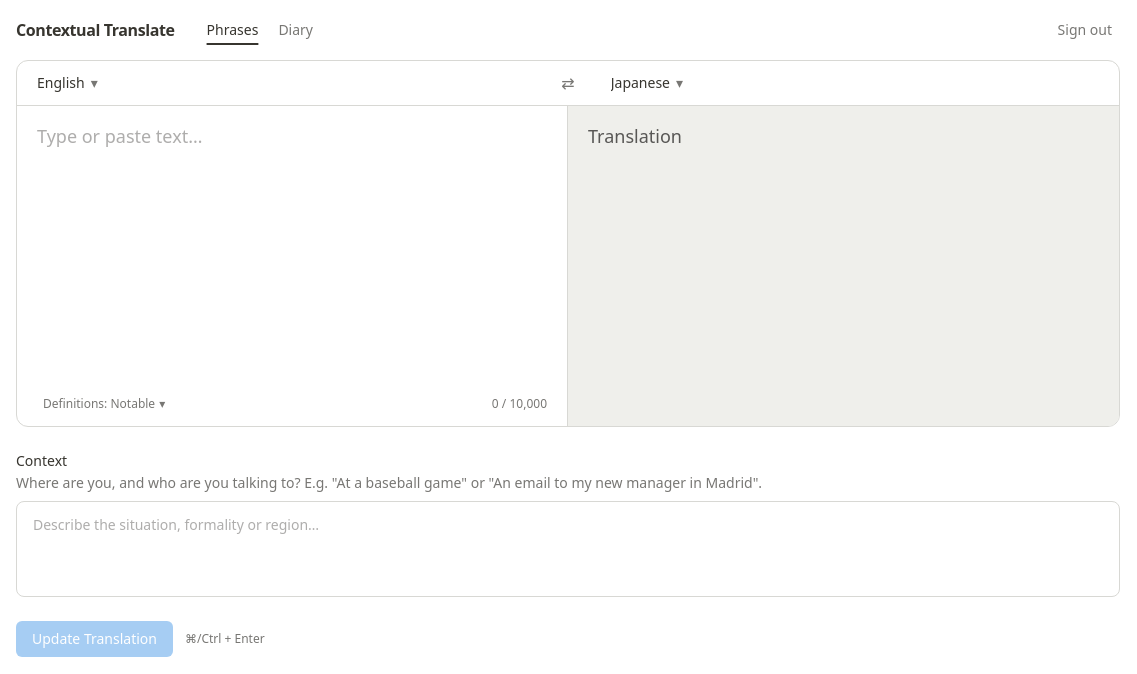
Test case: TranslatePage › says so when the definitions ran out before the translation did
Expected: the button "Sign out" is shown, [1050,16,1120,44]
In the text box named "Text to translate": x=292, y=250 [17,106,567,394], type "Hello"
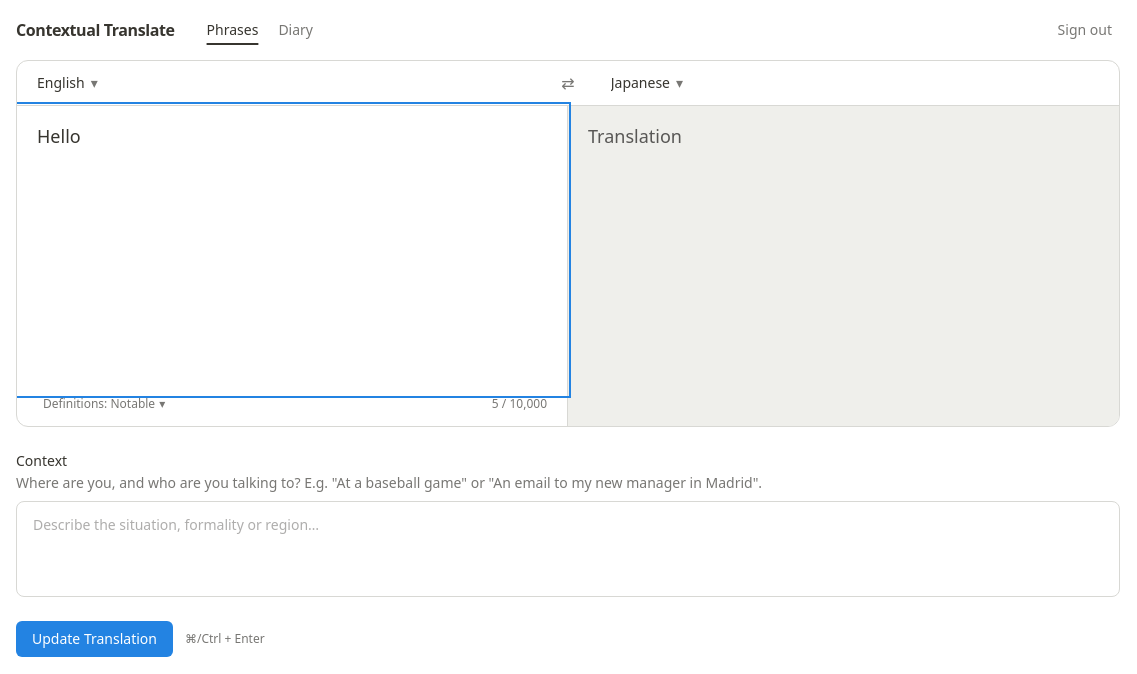
Click the button "Update Translation": x=94, y=639 [16,621,173,657]
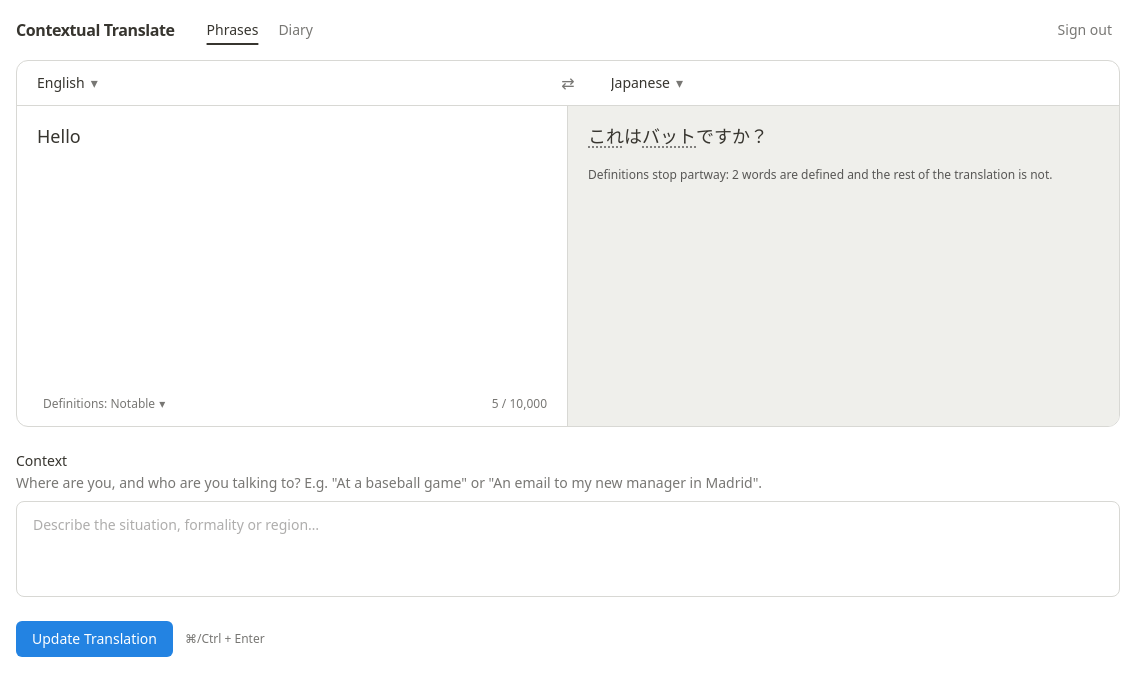
Now the text "2 words are defined and the rest of the translation is not" is shown, box [588,166,1052,183]
